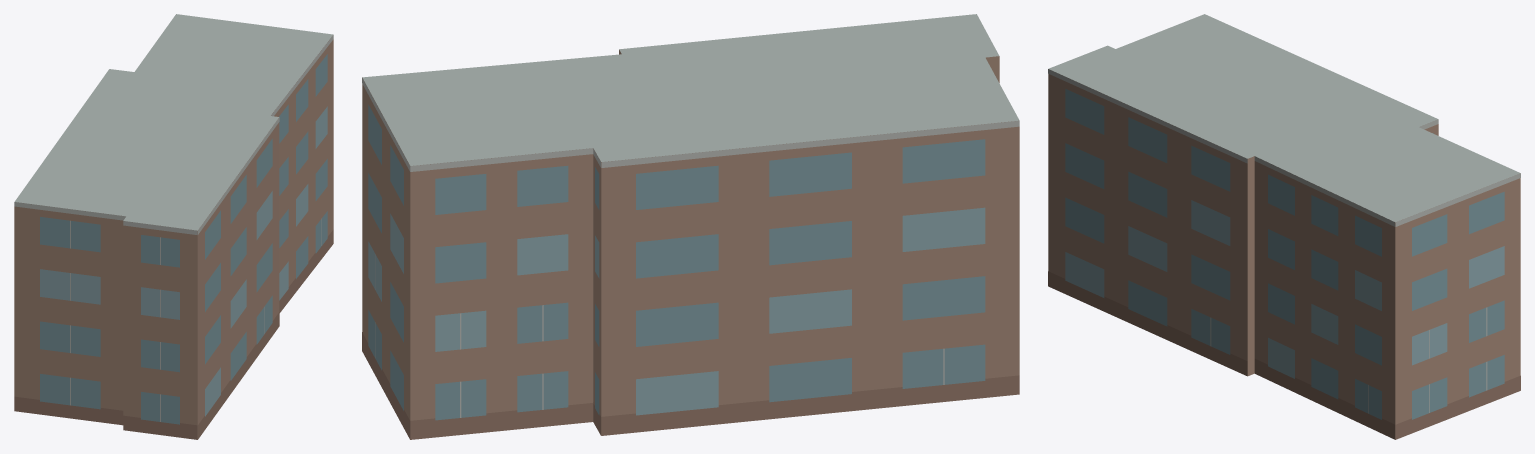
File: survey-upis-32994603.glb
The picture shows the model from 3 angles, left to right: view 1: azimuth 30°, elevation 25°; view 2: azimuth 150°, elevation 25°; view 3: azimuth 270°, elevation 25°; orthographic projection. The views are drawn at different scales.
Parts seen in each view (by area): view 1: survey-upis-32994603.tmp; view 2: survey-upis-32994603.tmp; view 3: survey-upis-32994603.tmp.
Boxes of the visible parts, bbox=[...] form: survey-upis-32994603.tmp: bbox=[14, 14, 333, 439]; survey-upis-32994603.tmp: bbox=[362, 14, 1019, 439]; survey-upis-32994603.tmp: bbox=[1048, 14, 1520, 439].
Size of the model in its own units: 22.81 by 11.1 by 21.86.
